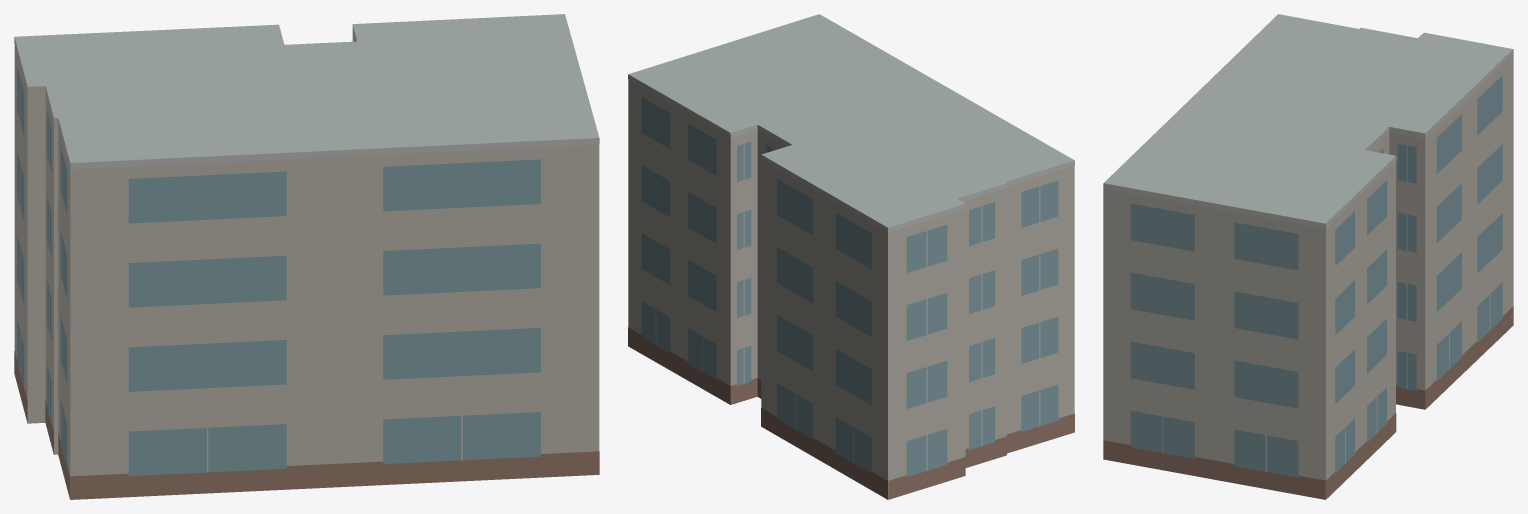
Rendered from survey-upis-32489347.glb.
The picture shows the model from 3 angles, left to right: view 1: azimuth 30°, elevation 25°; view 2: azimuth 150°, elevation 25°; view 3: azimuth 270°, elevation 25°; orthographic projection. The views are drawn at different scales.
Parts seen in each view (by area): view 1: survey-upis-32489347.tmp; view 2: survey-upis-32489347.tmp; view 3: survey-upis-32489347.tmp.
Boxes of the visible parts, x1=… form: survey-upis-32489347.tmp: x1=14, y1=14, x2=599, y2=499; survey-upis-32489347.tmp: x1=628, y1=14, x2=1074, y2=499; survey-upis-32489347.tmp: x1=1103, y1=14, x2=1513, y2=499.
Size of the model in its own units: 20.84 by 12.8 by 17.23.
